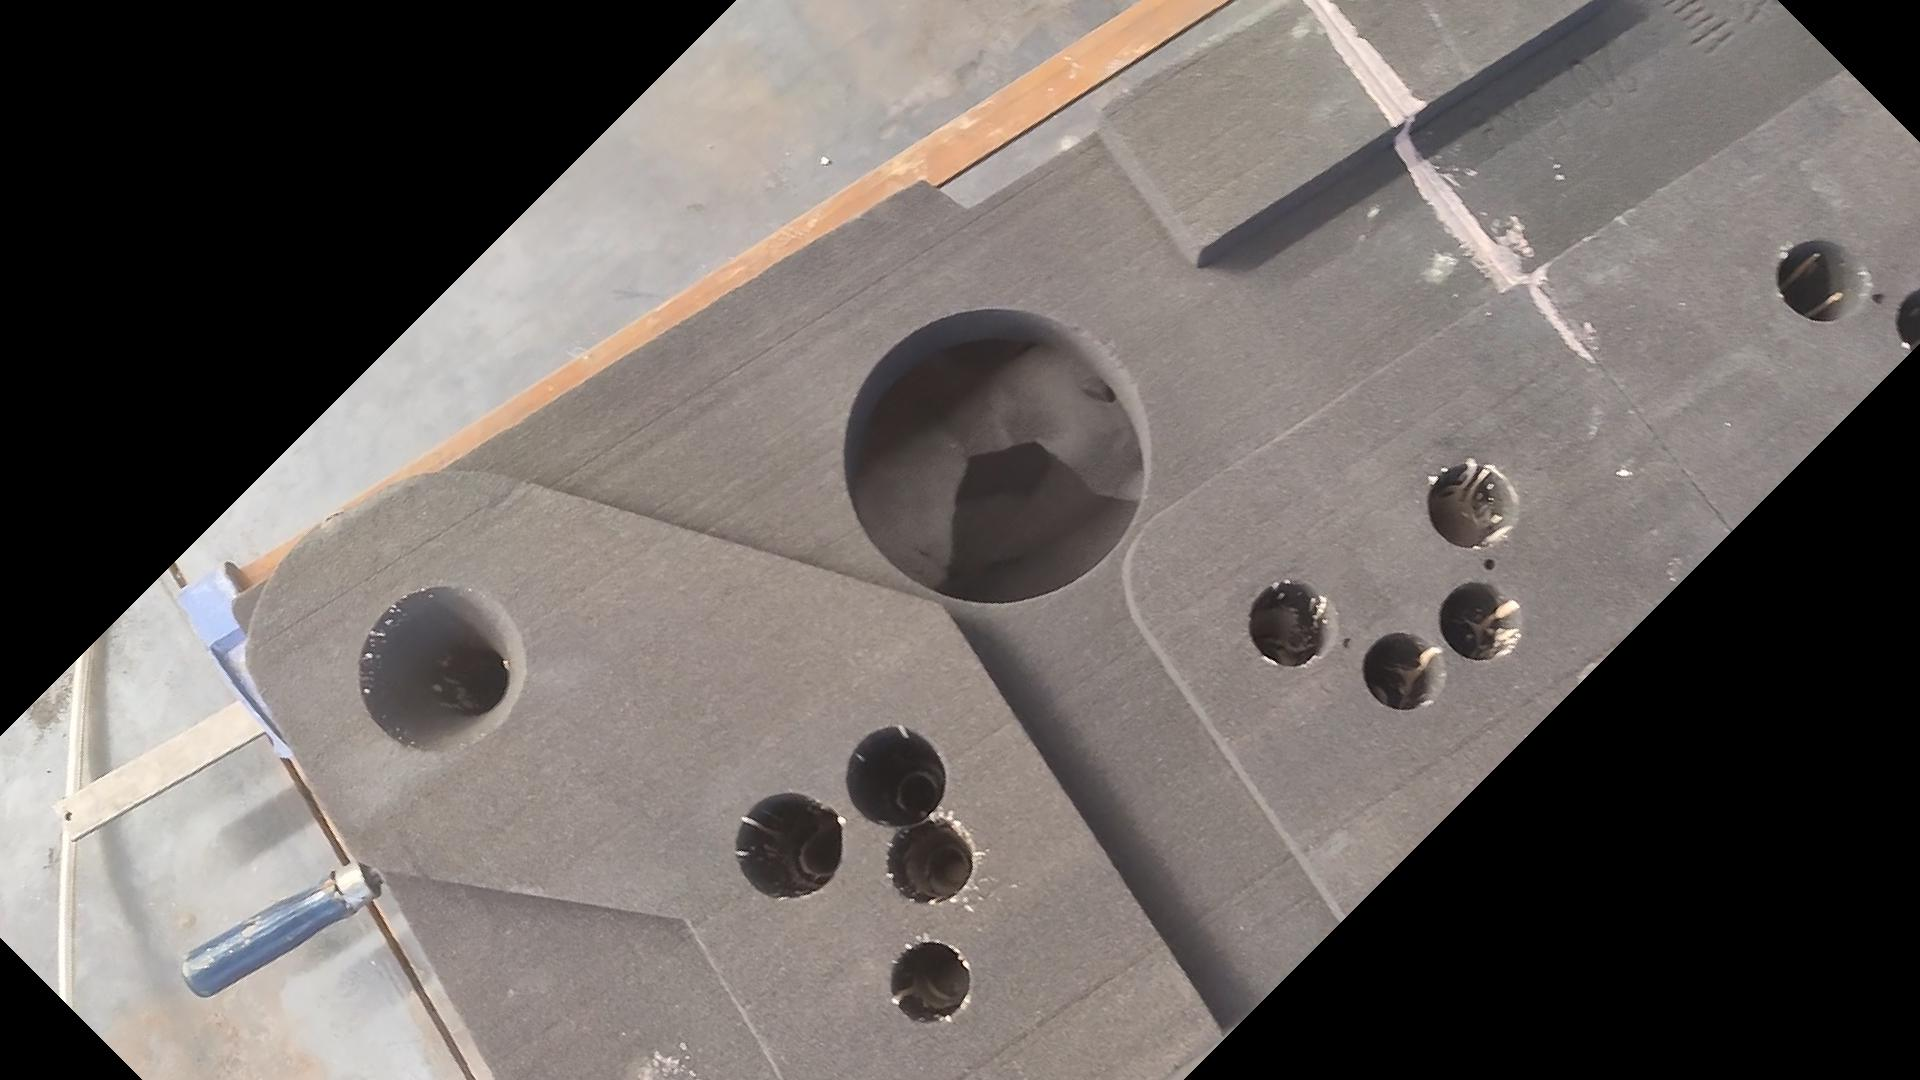pouring hole: (356, 583, 527, 756)
